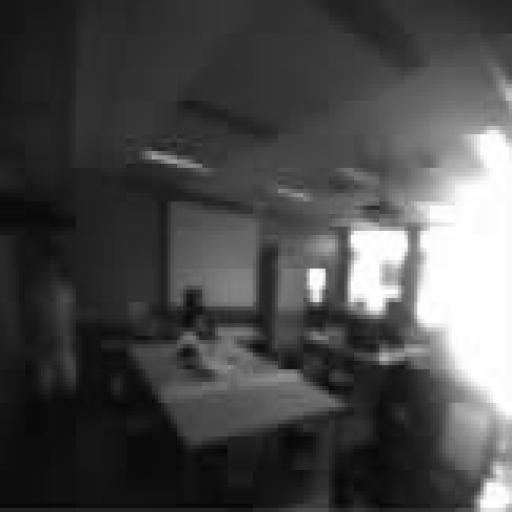human: (18, 236, 88, 420)
